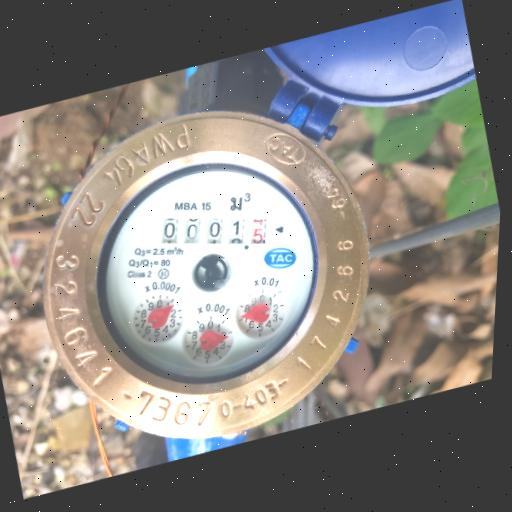0: (155, 214, 185, 248), (200, 214, 230, 247), (178, 213, 207, 247)
1: (222, 214, 251, 247)
5: (242, 212, 275, 251)
border_water_meter_number: (145, 180, 284, 281)
